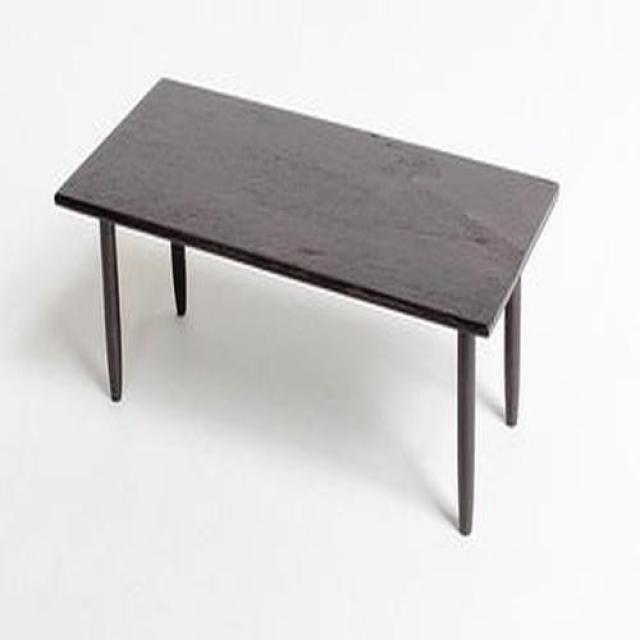table: (52, 78, 561, 538)
